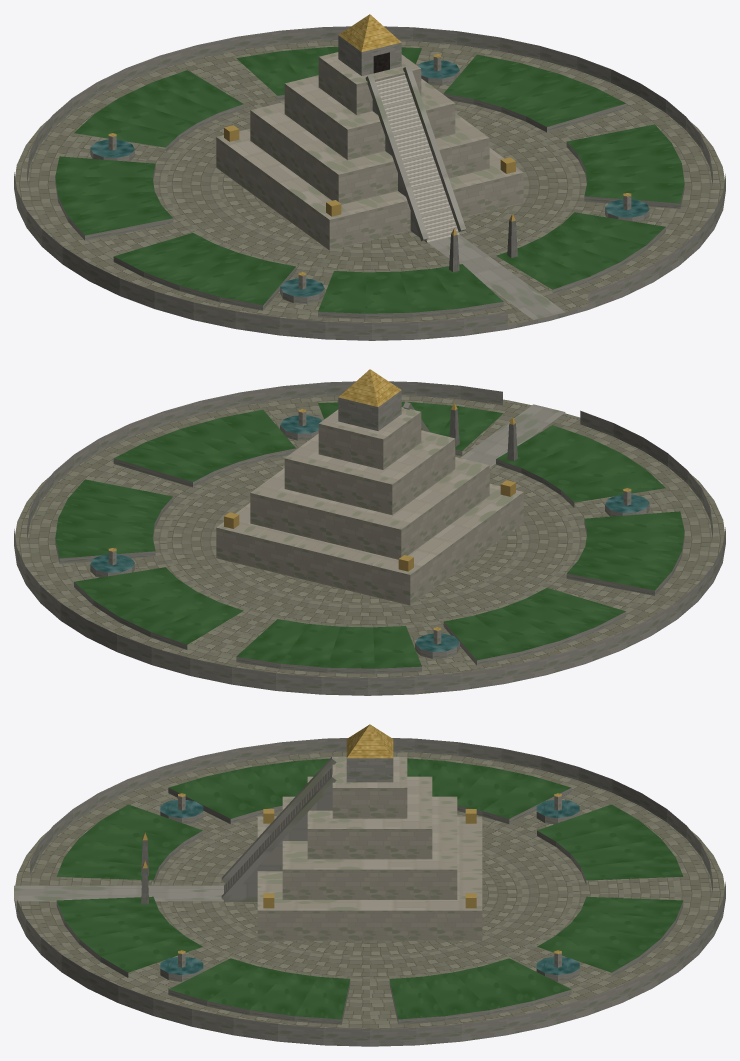
The model's file is pyramid_small_lod0.glb.
3 views of the same model, one above another, from view 1: azimuth 30°, elevation 25°; view 2: azimuth 150°, elevation 25°; view 3: azimuth 270°, elevation 25° (orthographic).
Parts seen in each view (by area): view 1: pyramid_small_lod0; view 2: pyramid_small_lod0; view 3: pyramid_small_lod0.
Boxes of the visible parts, x1=… form: pyramid_small_lod0: x1=14, y1=14, x2=725, y2=340; pyramid_small_lod0: x1=14, y1=369, x2=725, y2=695; pyramid_small_lod0: x1=14, y1=724, x2=725, y2=1046.
Bounding box in the file's own units: 1.88 × 0.512 × 1.9.
Materials: 1 (1 with a texture image).
